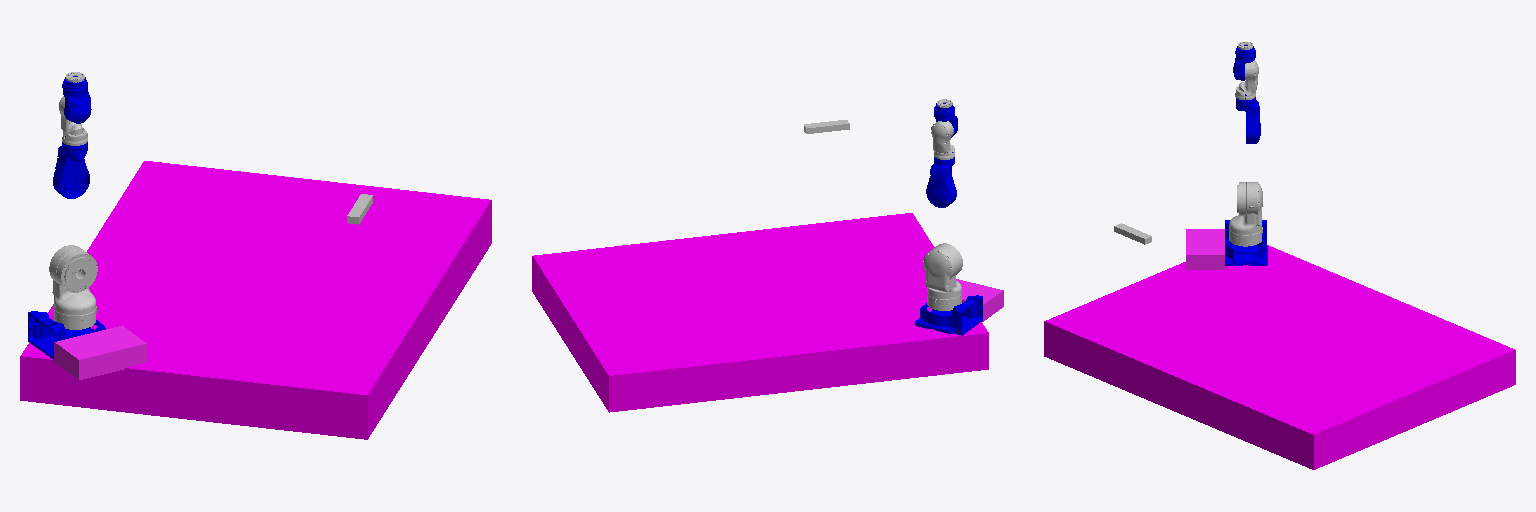
URDF robot description (freetail):
<?xml version="1.0" ?>
<!-- =================================================================================== -->
<!-- |    This document was autogenerated by xacro from freetail.xacro                 | -->
<!-- |    EDITING THIS FILE BY HAND IS NOT RECOMMENDED                                 | -->
<!-- =================================================================================== -->
<robot name="freetail" xmlns:xacro="http://ros.org/wiki/xacro">
  <link name="base_link">
    <visual>
      <geometry>
        <mesh filename="package://motoman_config/meshes/sia20d/visual/MOTOMAN_BASE.stl"/>
      </geometry>
      <material name="blue">
        <color rgba="0 0 1 1"/>
      </material>
    </visual>
    <collision>
      <geometry>
        <mesh filename="package://motoman_config/meshes/sia20d/collision/MOTOMAN_BASE.stl"/>
      </geometry>
      <material name="yellow">
        <color rgba="0 1 1 1"/>
      </material>
    </collision>
  </link>
  <link name="link_s">
    <visual>
      <origin rpy="0 0 3.1416" xyz="0 0 0"/>
      <geometry>
        <mesh filename="package://motoman_config/meshes/sia20d/visual/MOTOMAN_AXIS_S.stl"/>
      </geometry>
      <material name="silver">
        <color rgba="0.8 0.8 0.8 1"/>
      </material>
    </visual>
    <collision>
      <origin rpy="0 0 3.1416" xyz="0 0 0"/>
      <geometry>
        <mesh filename="package://motoman_config/meshes/sia20d/collision/MOTOMAN_AXIS_S.stl"/>
      </geometry>
      <material name="yellow"/>
    </collision>
  </link>
  <link name="link_l">
    <visual>
      <origin rpy="1.57 3.1416 3.1416" xyz="0 0 0"/>
      <geometry>
        <mesh filename="package://motoman_config/meshes/sia20d/visual/MOTOMAN_AXIS_L.stl"/>
      </geometry>
      <material name="blue"/>
    </visual>
    <collision>
      <origin rpy="1.57 3.1416 3.1416" xyz="0 0 0"/>
      <geometry>
        <mesh filename="package://motoman_config/meshes/sia20d/collision/MOTOMAN_AXIS_L.stl"/>
      </geometry>
      <material name="yellow"/>
    </collision>
  </link>
  <link name="link_e">
    <visual>
      <origin rpy="0 0 0" xyz="0 0 0"/>
      <geometry>
        <mesh filename="package://motoman_config/meshes/sia20d/visual/MOTOMAN_AXIS_E.stl"/>
      </geometry>
      <material name="silver"/>
    </visual>
    <collision>
      <origin rpy="0 0 0" xyz="0 0 0"/>
      <geometry>
        <mesh filename="package://motoman_config/meshes/sia20d/collision/MOTOMAN_AXIS_E.stl"/>
      </geometry>
      <material name="yellow"/>
    </collision>
  </link>
  <link name="link_u">
    <visual>
      <origin rpy="1.57 -3.1415 3.1416" xyz="0 0 0"/>
      <geometry>
        <mesh filename="package://motoman_config/meshes/sia20d/visual/MOTOMAN_AXIS_U.stl"/>
      </geometry>
      <material name="blue"/>
    </visual>
    <collision>
      <origin rpy="1.57 -3.1415 3.1416" xyz="0 0 0"/>
      <geometry>
        <mesh filename="package://motoman_config/meshes/sia20d/collision/MOTOMAN_AXIS_U.stl"/>
      </geometry>
      <material name="yellow"/>
    </collision>
  </link>
  <link name="link_r">
    <visual>
      <origin rpy="0 0 0" xyz="0 0 0"/>
      <geometry>
        <mesh filename="package://motoman_config/meshes/sia20d/visual/MOTOMAN_AXIS_R.stl"/>
      </geometry>
      <material name="silver"/>
    </visual>
    <collision>
      <origin rpy="0 0 0" xyz="0 0 0"/>
      <geometry>
        <mesh filename="package://motoman_config/meshes/sia20d/collision/MOTOMAN_AXIS_R.stl"/>
      </geometry>
      <material name="yellow"/>
    </collision>
  </link>
  <link name="link_b">
    <visual>
      <origin rpy="-1.57 0 0" xyz="0 0 0"/>
      <geometry>
        <mesh filename="package://motoman_config/meshes/sia20d/visual/MOTOMAN_AXIS_B.stl"/>
      </geometry>
      <material name="blue"/>
    </visual>
    <collision>
      <origin rpy="-1.57 0 0" xyz="0 0 0"/>
      <geometry>
        <mesh filename="package://motoman_config/meshes/sia20d/collision/MOTOMAN_AXIS_B.stl"/>
      </geometry>
      <material name="yellow"/>
    </collision>
  </link>
  <link name="link_t">
    <visual>
      <geometry>
        <mesh filename="package://motoman_config/meshes/sia20d/visual/MOTOMAN_AXIS_T.stl"/>
      </geometry>
      <material name="silver"/>
    </visual>
    <collision>
      <geometry>
        <mesh filename="package://motoman_config/meshes/sia20d/collision/MOTOMAN_AXIS_T.stl"/>
      </geometry>
      <material name="yellow"/>
    </collision>
  </link>
  <joint name="joint_s" type="revolute">
    <parent link="base_link"/>
    <child link="link_s"/>
    <origin rpy="0 0 0" xyz="0 0 0.41"/>
    <axis xyz="0 0 1"/>
    <limit effort="100" lower="-3.1416" upper="3.1416" velocity="2.26"/>
  </joint>
  <joint name="joint_l" type="revolute">
    <parent link="link_s"/>
    <child link="link_l"/>
    <origin rpy="0 0 0" xyz="0 0 0"/>
    <axis xyz="0 1 0"/>
    <limit effort="100" lower="-1.91" upper="1.91" velocity="2.26"/>
  </joint>
  <joint name="joint_e" type="revolute">
    <parent link="link_l"/>
    <child link="link_e"/>
    <origin rpy="0 0 0" xyz="0 0 0.49"/>
    <axis xyz="0 0 1"/>
    <limit effort="100" lower="-2.96" upper="2.96" velocity="2.96"/>
  </joint>
  <joint name="joint_u" type="revolute">
    <parent link="link_e"/>
    <child link="link_u"/>
    <origin rpy="0 0 0" xyz="0 0 0"/>
    <axis xyz="0 -1 0"/>
    <limit effort="100" lower="-2.26" upper="2.26" velocity="2.96"/>
  </joint>
  <joint name="joint_r" type="revolute">
    <parent link="link_u"/>
    <child link="link_r"/>
    <origin rpy="0 0 0" xyz="0 0 0.420"/>
    <axis xyz="0 0 -1"/>
    <limit effort="100" lower="-3.1416" upper="3.1416" velocity="3.48"/>
  </joint>
  <joint name="joint_b" type="revolute">
    <parent link="link_r"/>
    <child link="link_b"/>
    <origin rpy="0 0 0" xyz="0 0 0"/>
    <axis xyz="0 -1 0"/>
    <limit effort="100" lower="-1.91" upper="1.91" velocity="3.48"/>
  </joint>
  <joint name="joint_t" type="revolute">
    <parent link="link_b"/>
    <child link="link_t"/>
    <origin rpy="0 0 0" xyz="0 0 0.18"/>
    <axis xyz="0 0 -1"/>
    <limit effort="100" lower="-3.1416" upper="3.1416" velocity="6.97"/>
  </joint>
  <link name="palm">
    <visual>
      <geometry>
        <mesh filename="package://robotiq_s_model_visualization/meshes/s-model/visual/GRIPPER_OPEN_PALM.stl"/>
      </geometry>
      <material name="green">
        <color rgba="0 1 0 1"/>
      </material>
    </visual>
    <collision>
      <geometry>
        <mesh filename="package://robotiq_s_model_visualization/meshes/s-model/collision/GRIPPER_OPEN_PALM.stl"/>
      </geometry>
      <material name="yellow">
        <color rgba="0 1 1 1"/>
      </material>
    </collision>
  </link>
  <link name="finger_1">
    <visual>
      <geometry>
        <mesh filename="package://robotiq_s_model_visualization/meshes/s-model/visual/GRIPPER_OPEN_FINGER_1.stl"/>
      </geometry>
      <material name="green"/>
    </visual>
    <collision>
      <geometry>
        <mesh filename="package://robotiq_s_model_visualization/meshes/s-model/collision/GRIPPER_OPEN_FINGER_1.stl"/>
      </geometry>
      <material name="yellow"/>
    </collision>
  </link>
  <link name="finger_2">
    <visual>
      <geometry>
        <mesh filename="package://robotiq_s_model_visualization/meshes/s-model/visual/GRIPPER_OPEN_FINGER_2.stl"/>
      </geometry>
      <material name="green"/>
    </visual>
    <collision>
      <geometry>
        <mesh filename="package://robotiq_s_model_visualization/meshes/s-model/collision/GRIPPER_OPEN_FINGER_2.stl"/>
      </geometry>
      <material name="yellow"/>
    </collision>
  </link>
  <link name="finger_3">
    <visual>
      <geometry>
        <mesh filename="package://robotiq_s_model_visualization/meshes/s-model/visual/GRIPPER_OPEN_FINGER_3.stl"/>
      </geometry>
      <material name="green"/>
    </visual>
    <collision>
      <geometry>
        <mesh filename="package://robotiq_s_model_visualization/meshes/s-model/collision/GRIPPER_OPEN_FINGER_3.stl"/>
      </geometry>
      <material name="yellow"/>
    </collision>
  </link>
  <joint name="joint_1" type="fixed">
    <parent link="palm"/>
    <child link="finger_1"/>
    <origin rpy="0 0 0" xyz="0 0 0"/>
  </joint>
  <joint name="joint_2" type="fixed">
    <parent link="palm"/>
    <child link="finger_2"/>
    <origin rpy="0 0 0" xyz="0 0 0"/>
  </joint>
  <joint name="joint_3" type="fixed">
    <parent link="palm"/>
    <child link="finger_3"/>
    <origin rpy="0 0 0" xyz="0 0 0"/>
  </joint>
  <!-- link list -->
  <link name="coupler">
    <visual>
      <geometry>
        <mesh filename="package://longhorn/meshes/coupler/visual/COUPLER.stl"/>
      </geometry>
      <material name="orange">
        <color rgba="1 0.5 0 1"/>
      </material>
    </visual>
    <collision>
      <geometry>
        <mesh filename="package://longhorn/meshes/coupler/collision/COUPLER.stl"/>
      </geometry>
      <material name="yellow">
        <color rgba="0 1 1 1"/>
      </material>
    </collision>
  </link>
  <!-- end link list -->
  <!-- joint list -->
  <joint name="tool-coupler" type="fixed">
    <parent link="link_t"/>
    <child link="coupler"/>
    <origin rpy="1.570 0 0" xyz="0 0 0"/>
  </joint>
  <joint name="coupler-hand" type="fixed">
    <parent link="coupler"/>
    <child link="palm"/>
    <origin rpy="-1.570 -2.356 0" xyz="0 0.240 0"/>
  </joint>
  <!-- end of joint list -->
  <!-- environment list -->
  <link name="table">
    <visual>
      <geometry>
        <box size="1.83 2.44 0.25"/>
      </geometry>
      <material name="">
        <color rgba="1 0 1 1"/>
      </material>
    </visual>
    <collision>
      <geometry>
        <box size="1.83 2.44 0.25"/>
      </geometry>
      <material name="">
        <color rgba="1 0 1 1"/>
      </material>
    </collision>
  </link>
  <link name="table_keepout_1">
    <collision>
      <geometry>
        <box size="2.08 0.25 2"/>
      </geometry>
      <material name="">
        <color rgba="1 0.2 1 0.1"/>
      </material>
    </collision>
  </link>
  <link name="table_keepout_2">
    <collision>
      <geometry>
        <box size="0.25 2.69 2"/>
      </geometry>
      <material name="">
        <color rgba="1 0.2 1 0.1"/>
      </material>
    </collision>
  </link>
  <link name="abb_keepout">
    <collision>
      <geometry>
        <box size="0.915 1.524 2"/>
      </geometry>
      <material name="">
        <color rgba="1 0.2 1 0.1"/>
      </material>
    </collision>
  </link>
  <link name="power_supply">
    <visual>
      <geometry>
        <box size="0.400 0.250 0.115"/>
      </geometry>
      <material name="">
        <color rgba="1 0.2 1 0.1"/>
      </material>
    </visual>
    <collision>
      <geometry>
        <box size="0.400 0.250 0.115"/>
      </geometry>
      <material name="">
        <color rgba="1 0.2 1 0.1"/>
      </material>
    </collision>
  </link>
  <link name="kinect_keepout">
    <collision>
      <geometry>
        <box size="0.25 2.69 2"/>
      </geometry>
      <material name="">
        <color rgba="1 0.2 1 0.1"/>
      </material>
    </collision>
  </link>
  <link name="kinect">
    <collision>
      <geometry>
        <box size="0.36 0.28 0.22"/>
      </geometry>
      <material name="">
        <color rgba="1 0.8 1 0.1"/>
      </material>
    </collision>
  </link>
  <joint name="base-table" type="fixed">
    <parent link="base_link"/>
    <child link="table"/>
    <origin rpy="0 0 -0.785" xyz="1.19 0.22 -0.125"/>
  </joint>
  <joint name="base-kinect" type="fixed">
    <parent link="base_link"/>
    <child link="kinect"/>
    <origin rpy="0 0 2.356" xyz="1.26 -0.72 0.75"/>
  </joint>
  <joint name="table-keepout_1" type="fixed">
    <parent link="table"/>
    <child link="table_keepout_1"/>
    <origin rpy="0 0 0" xyz="0 -1.34 1"/>
  </joint>
  <joint name="table-keepout_2" type="fixed">
    <parent link="table"/>
    <child link="table_keepout_2"/>
    <origin rpy="0 0 0" xyz="-1.025 0 1"/>
  </joint>
  <joint name="abb-keepout" type="fixed">
    <parent link="table"/>
    <child link="abb_keepout"/>
    <origin rpy="0 0 0" xyz="0.475 0.458 1.125"/>
  </joint>
  <joint name="base-power_supply" type="fixed">
    <parent link="base_link"/>
    <child link="power_supply"/>
    <origin rpy="0 0 0" xyz="0 -0.260 0.050"/>
  </joint>
  <joint name="table-kinect" type="fixed">
    <parent link="table"/>
    <child link="kinect_keepout"/>
    <origin rpy="0 0 0" xyz=".5 0 1"/>
  </joint>
  <!-- end environment list -->
  <!-- kinect -->
  <joint name="kinect_frame_joint" type="fixed">
    <parent link="kinect"/>
    <child link="kinect_frame"/>
    <origin rpy="0 0 0" xyz="0 0 0"/>
  </joint>
  <link name="kinect_frame">
    <visual>
      <origin rpy="0 0 0" xyz="0 0 0"/>
      <geometry>
        <box size="0.064 0.28 0.04"/>
      </geometry>
      <material name="silver"/>
    </visual>
    <collision>
      <origin rpy="0 0 0" xyz="0 0 0"/>
      <geometry>
        <box size="0.064 0.28 0.04"/>
      </geometry>
    </collision>
  </link>
  <joint name="kinect_ir_joint" type="fixed">
    <parent link="kinect_frame"/>
    <child link="kinect_ir_link"/>
    <origin rpy="0 0 0" xyz="0 0 0"/>
  </joint>
  <link name="kinect_ir_link">
    <visual>
      <origin rpy="0 0 0" xyz="0 0 0"/>
      <geometry>
        <sphere radius="0.0005"/>
      </geometry>
    </visual>
  </link>
  <joint name="kinect_ir_optical_frame_joint" type="fixed">
    <parent link="kinect_ir_link"/>
    <child link="kinect_ir_optical_frame"/>
    <origin rpy="-1.57 0 -1.57" xyz="0 0 0"/>
  </joint>
  <link name="kinect_ir_optical_frame"/>
  <joint name="kinect_rgb_joint" type="fixed">
    <parent link="kinect_ir_link"/>
    <child link="kinect_rgb_link"/>
    <origin rpy="0 0 0" xyz="0 -0.03 0"/>
  </joint>
  <link name="kinect_rgb_link">
    <visual>
      <origin rpy="0 0 0" xyz="0 0 0"/>
      <geometry>
        <sphere radius="0.0005"/>
      </geometry>
    </visual>
  </link>
  <joint name="kinect_rgb_optical_frame_joint" type="fixed">
    <parent link="kinect_rgb_link"/>
    <child link="kinect_rgb_optical_frame"/>
    <origin rpy="-1.57 0 -1.57" xyz="0 0 0"/>
  </joint>
  <link name="kinect_rgb_optical_frame"/>
  <!-- end kinect -->
</robot>

--- Facts derived from the render (not from the file) ---
The picture shows the robot from 3 angles, left to right: view 1: azimuth 30°, elevation 25°; view 2: azimuth 150°, elevation 25°; view 3: azimuth 270°, elevation 25°; orthographic projection.
Model freetail with 25 links and 24 joints (7 revolute, 17 fixed), rooted at base_link, posed every joint at zero.
Links seen in each view (by area): view 1: table, power_supply, link_s, link_u, base_link, link_b, link_r; view 2: table, link_s, base_link, link_u, power_supply, link_r; view 3: table, link_s, power_supply, base_link, link_u, link_r.
Link boxes in pixels (left/top/right/bottom): table: left=20, top=161, right=491, bottom=439; power_supply: left=54, top=325, right=146, bottom=379; link_s: left=49, top=245, right=97, bottom=329; link_u: left=53, top=136, right=89, bottom=198; base_link: left=28, top=311, right=105, bottom=359; link_b: left=62, top=76, right=91, bottom=123; link_r: left=59, top=96, right=87, bottom=145; table: left=532, top=213, right=988, bottom=412; link_s: left=923, top=243, right=962, bottom=310; base_link: left=915, top=295, right=982, bottom=335; link_u: left=926, top=152, right=956, bottom=207; power_supply: left=929, top=279, right=1003, bottom=321; link_r: left=931, top=121, right=954, bottom=159; table: left=1044, top=245, right=1515, bottom=469; link_s: left=1229, top=182, right=1262, bottom=246; power_supply: left=1186, top=229, right=1224, bottom=269; base_link: left=1225, top=220, right=1267, bottom=265; link_u: left=1236, top=94, right=1260, bottom=143; link_r: left=1235, top=60, right=1258, bottom=99.
Size in the robot's own frame: 3.02 by 3.02 by 1.75 metres.
Meshes: 13 distinct files referenced, 6 mesh visuals loaded (6 binary STL); not drawn: 7 (reference not matched to a file when rendering).